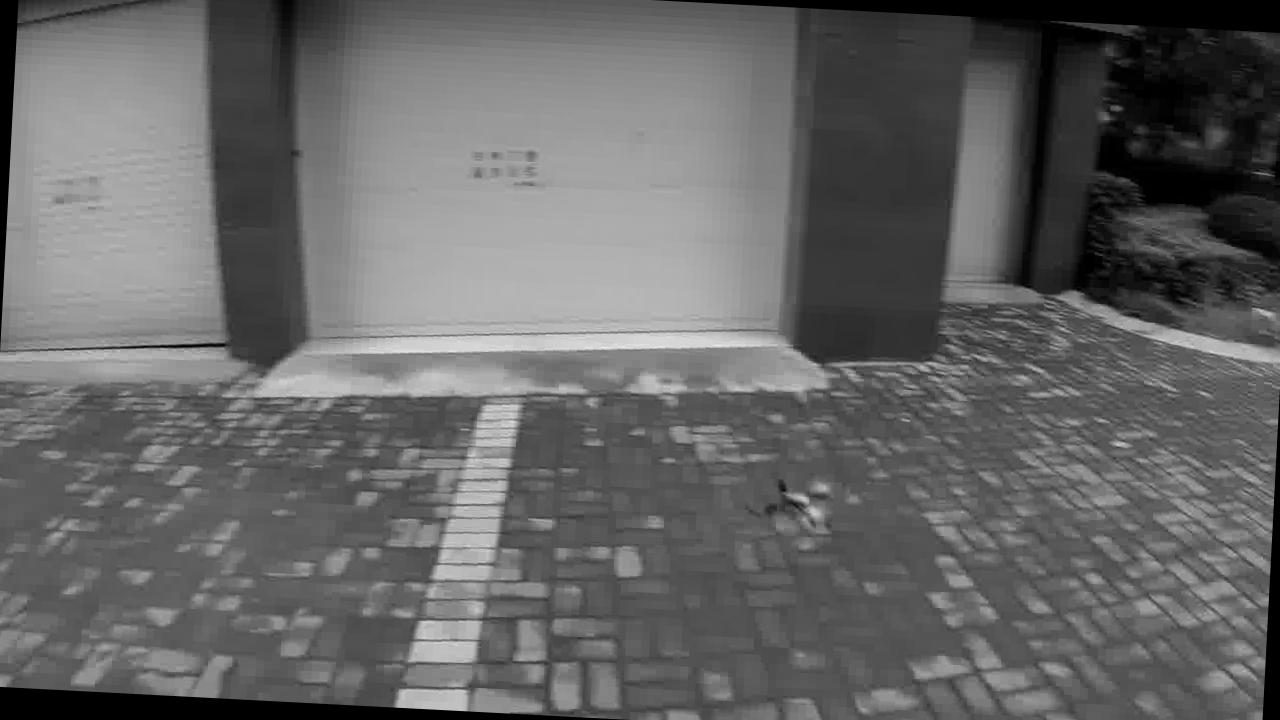drone: (744, 450, 851, 548)
